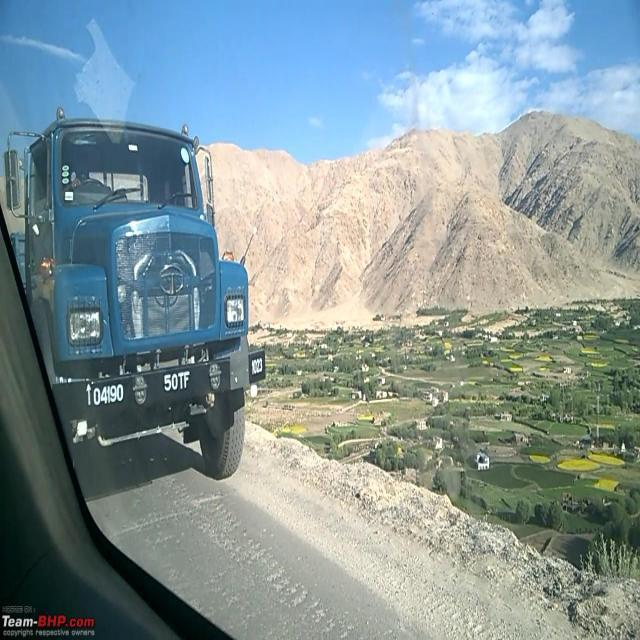0: (92, 386, 100, 406), (116, 382, 124, 402), (171, 374, 179, 391), (253, 359, 256, 374)
1: (106, 386, 110, 404), (251, 360, 254, 376)
2: (257, 359, 259, 373)
3: (259, 358, 263, 372)
4: (101, 387, 108, 406)
5: (164, 375, 172, 393)
9: (110, 385, 117, 403)
f: (184, 372, 190, 389)
t: (178, 372, 184, 391)
